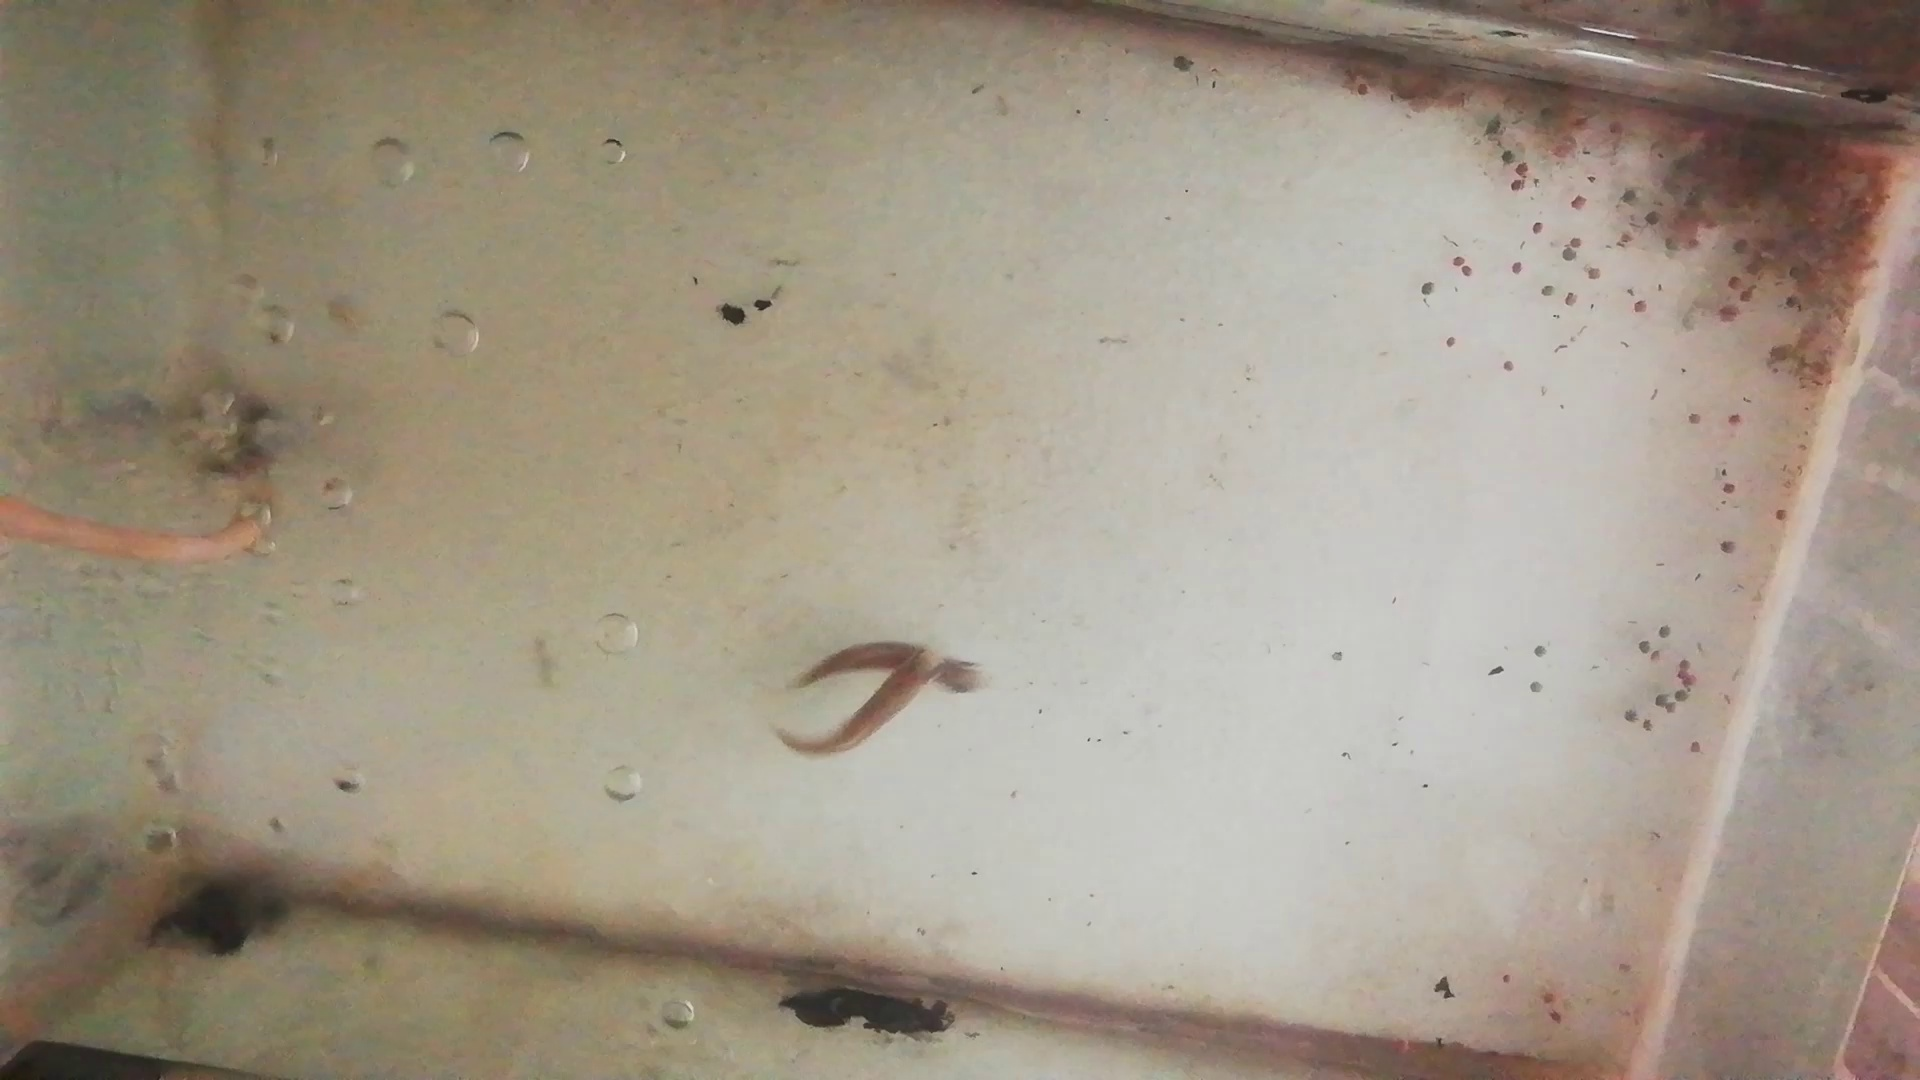fish: (785, 644, 945, 756), (795, 640, 992, 694)
